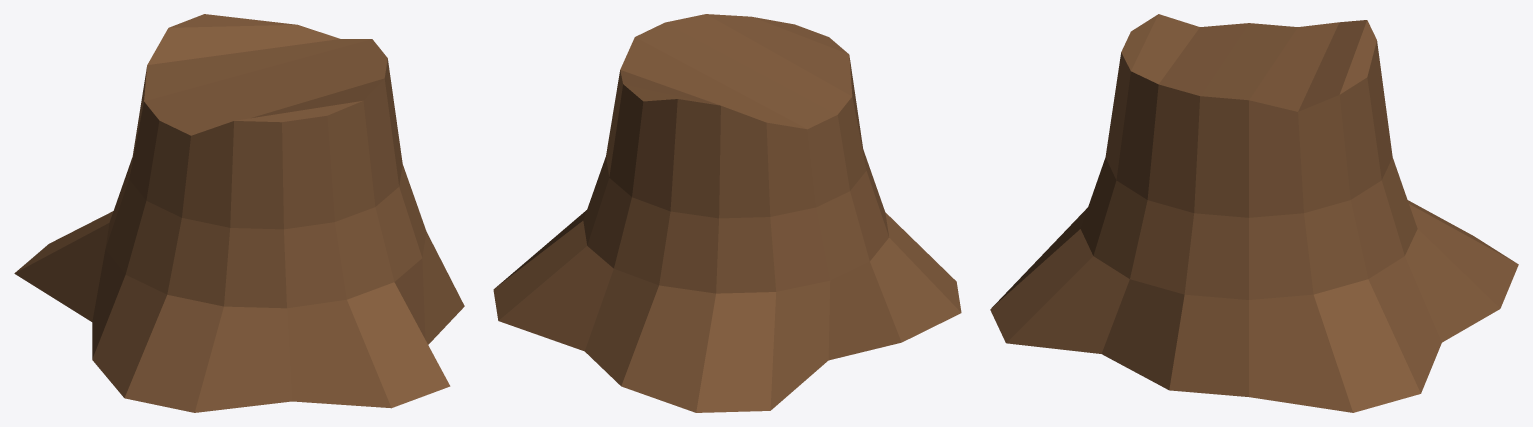
The model's file is Baumstumpf_01_rdy.fbx.
3 views of the same model, side by side, from view 1: azimuth 30°, elevation 25°; view 2: azimuth 150°, elevation 25°; view 3: azimuth 270°, elevation 25° (orthographic). The views are drawn at different scales.
Parts seen in each view (by area): view 1: Baumstumpf_01; view 2: Baumstumpf_01; view 3: Baumstumpf_01.
Boxes of the visible parts, x1=… form: Baumstumpf_01: x1=14, y1=14, x2=464, y2=412; Baumstumpf_01: x1=493, y1=14, x2=961, y2=412; Baumstumpf_01: x1=990, y1=14, x2=1518, y2=412.
Size of the model in its own units: 370 by 232 by 413.
